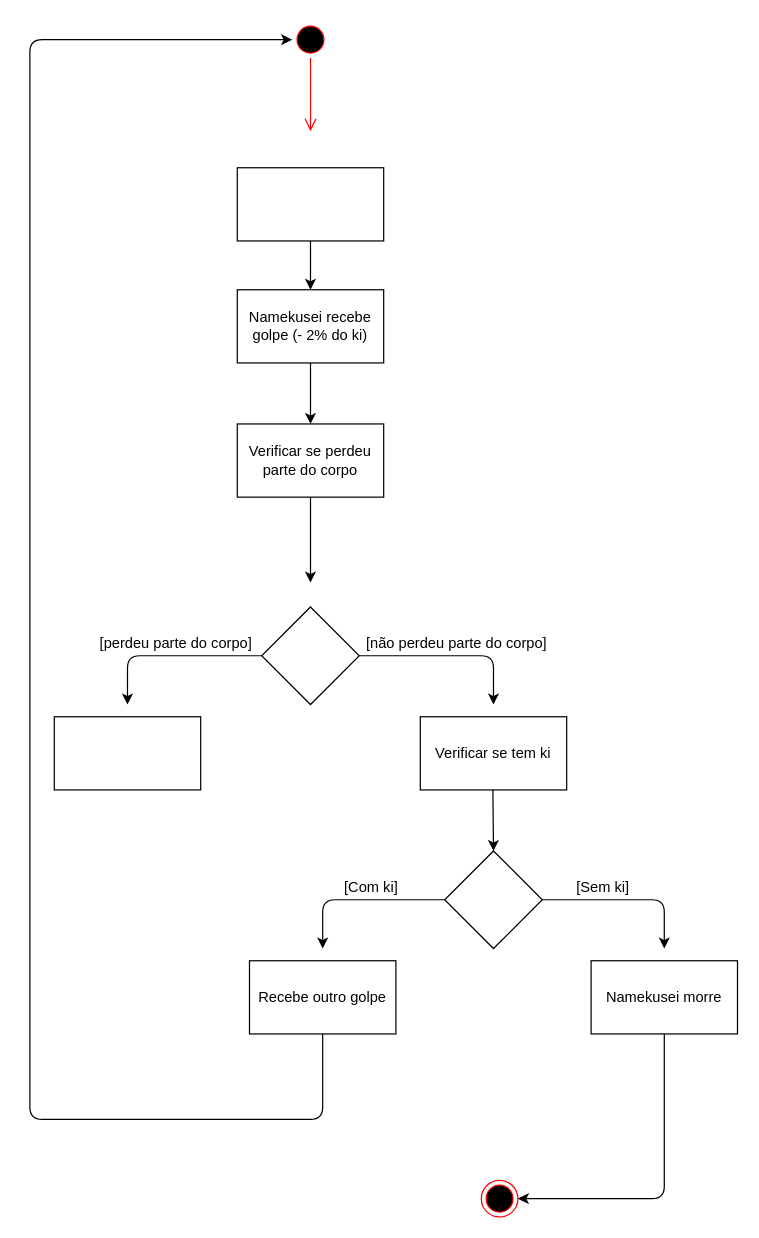
Some shapes in this 759 by 1238 pixel diagram are drawn without their labels. Each missing label, with the centre of its shape:
Ler ki original de Namekusei: the point at 310,204
Verificar se ainda pode regenerar: the point at 127,753
